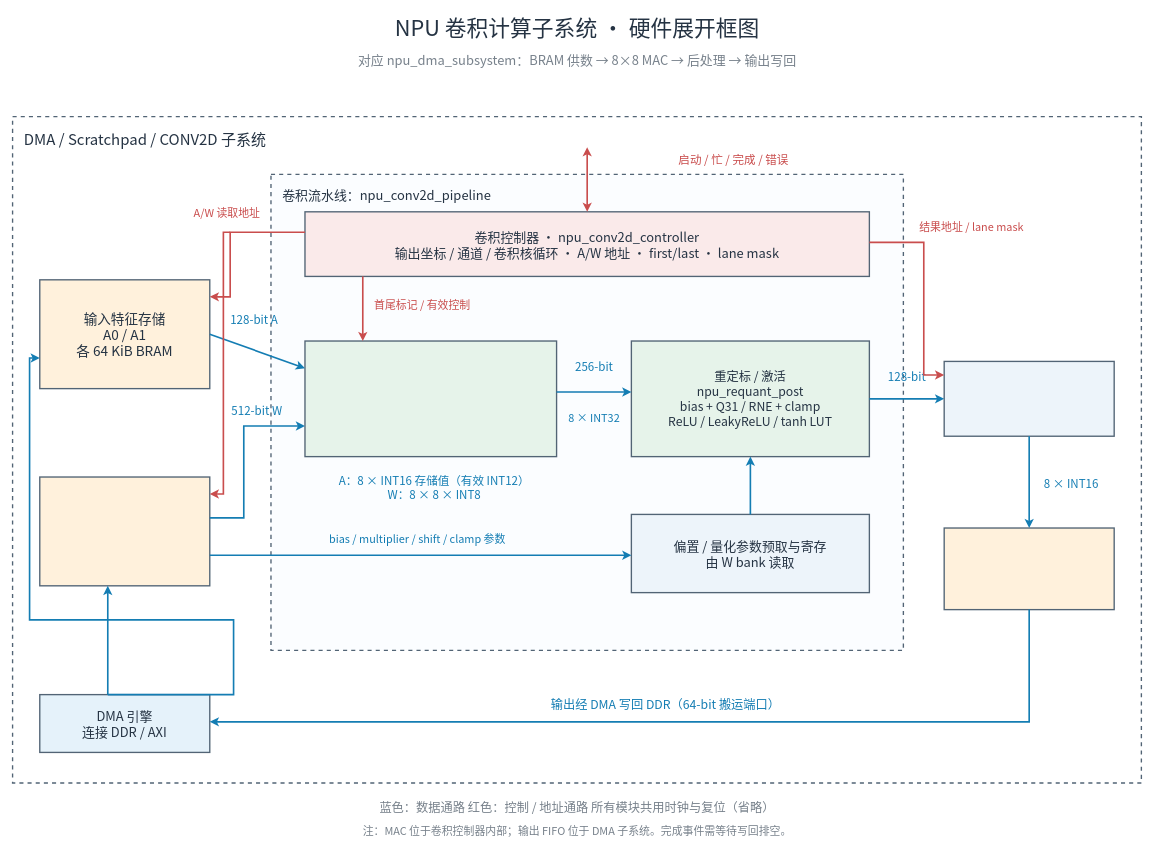
Some shapes in this 1163 by 849 pixel diagram are drawn without their labels. Each missing label, with the box of its shape:
8×8 Tensor MAC npu_tensor_mac_8x8 64 路 INT16 × INT8 乘法 加法树 + INT32 累加: (304, 340, 557, 457)
权重 / 参数存储 W0 / W1 各 32 KiB BRAM: (39, 476, 210, 586)
输出写回 FIFO 2-entry × 128-bit: (943, 360, 1115, 437)
输出存储 O0 / O1 各 16 KiB BRAM: (943, 527, 1115, 610)
